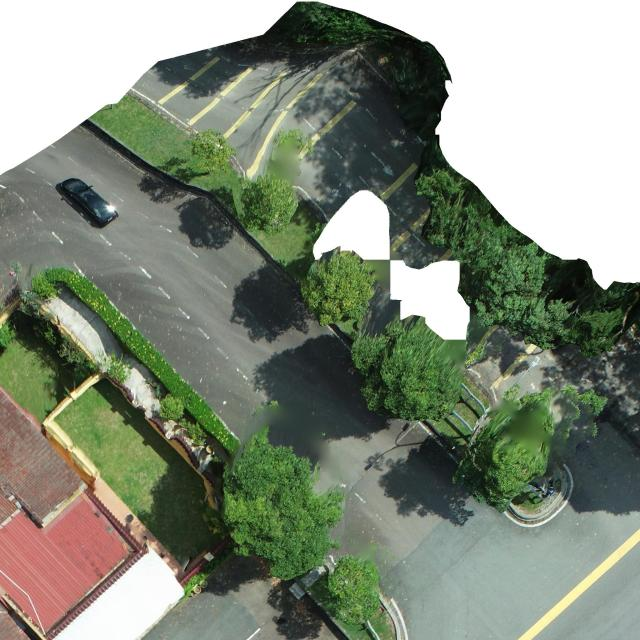Tree: (416, 166, 578, 350), (450, 384, 607, 514), (222, 428, 346, 580), (350, 315, 468, 422), (300, 248, 374, 327), (326, 554, 381, 626), (236, 173, 298, 234), (191, 128, 238, 175)
